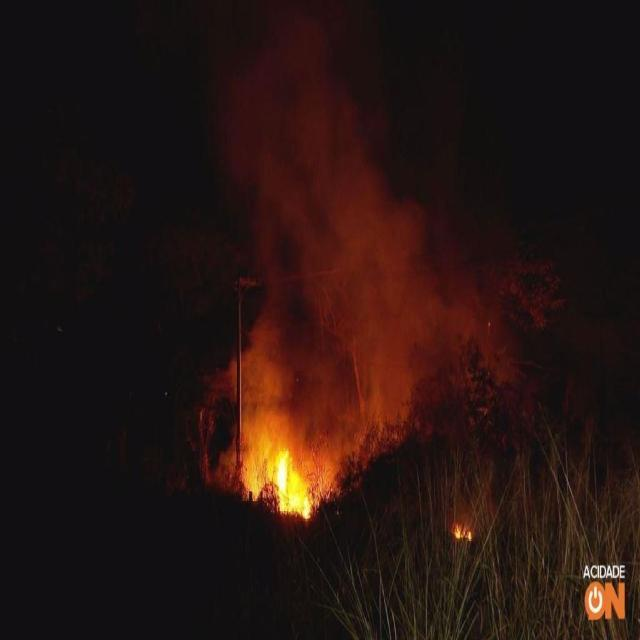Fire: (250, 446, 311, 522), (453, 522, 472, 541)
Smoke: (206, 20, 518, 497)
